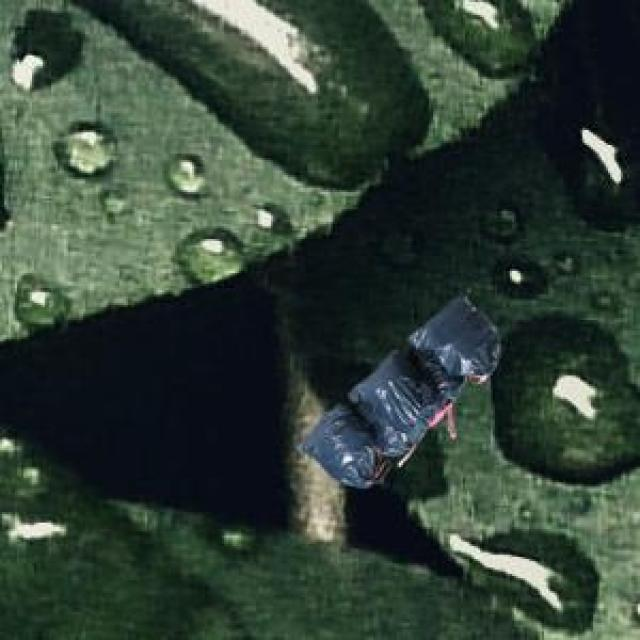miscellaneous trash: (294, 286, 495, 484)
